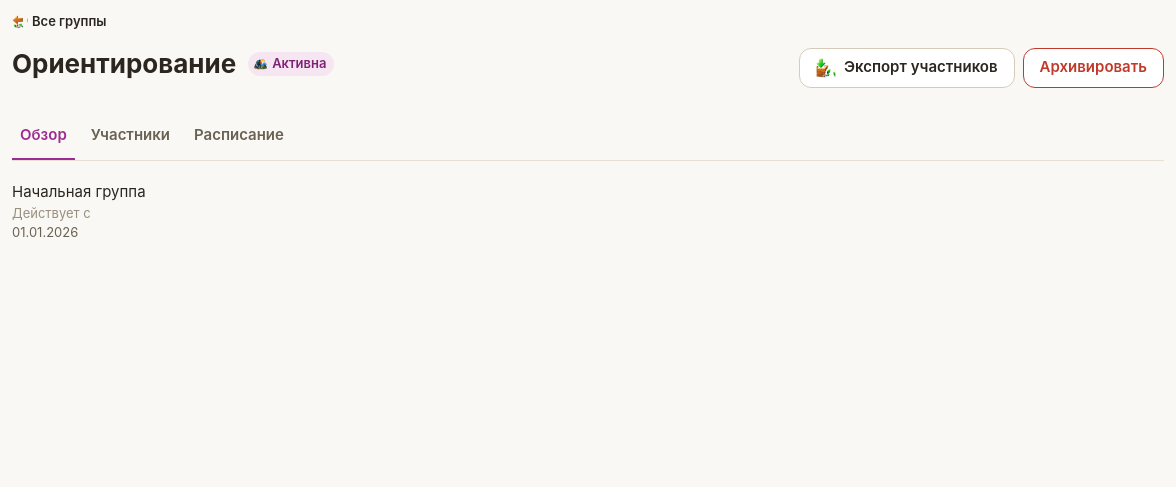
Test: GroupDetailPage › shows identity, status and a back link, and switches tabs on click
The image size is (1176, 487).
Check: the heading "Ориентирование" is shown, box [12,48,236,80]
Check: the text "Активна" is shown, box [248,52,334,76]
Click the tab "Участники" at (130, 136), box [83,112,178,160]
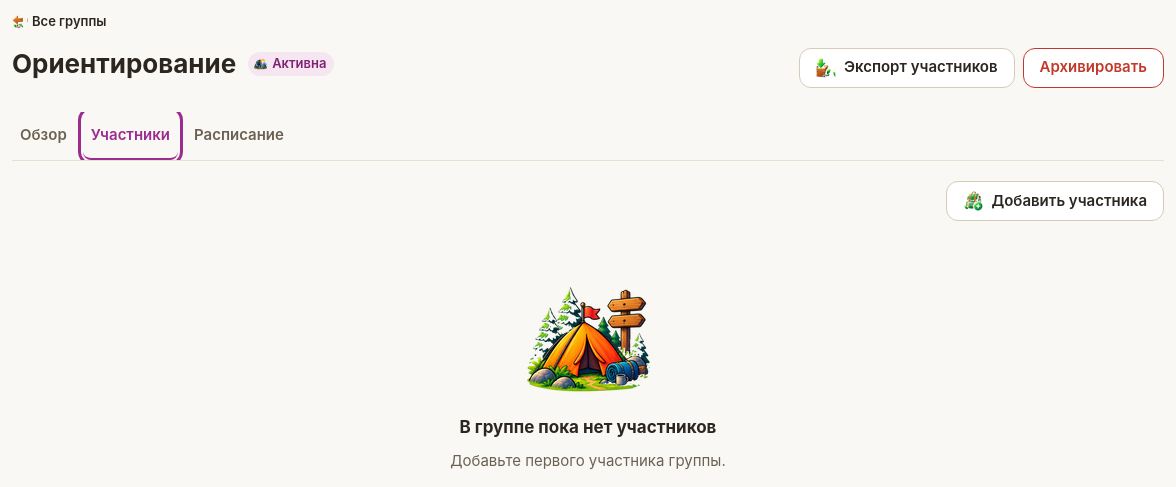
Check: the heading "В группе пока нет участников" is shown, box [460,417,716,438]
Click the tab "Расписание" at (239, 136), box [186,112,292,160]
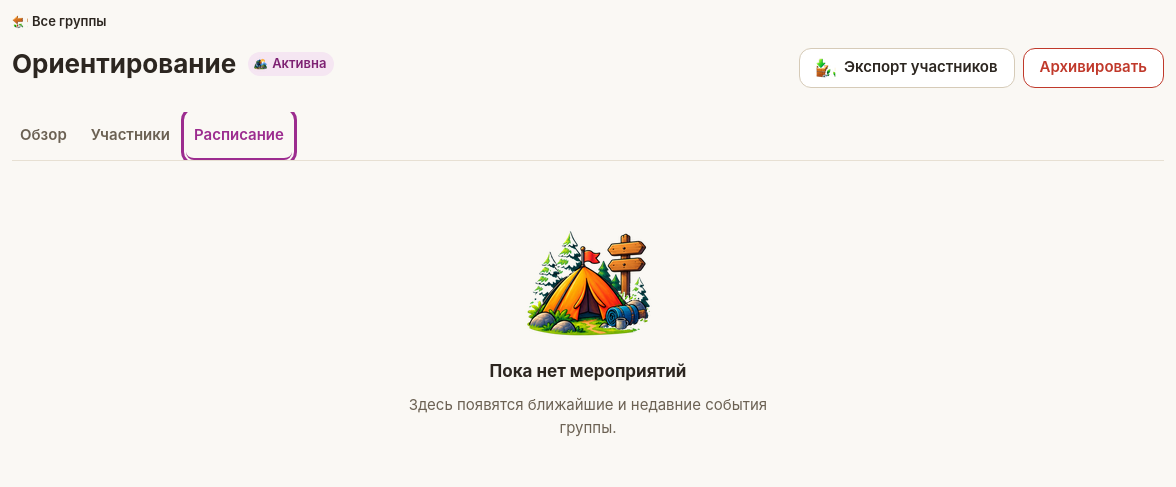
Check: the heading "Пока нет мероприятий" is shown, box [490,361,686,382]
